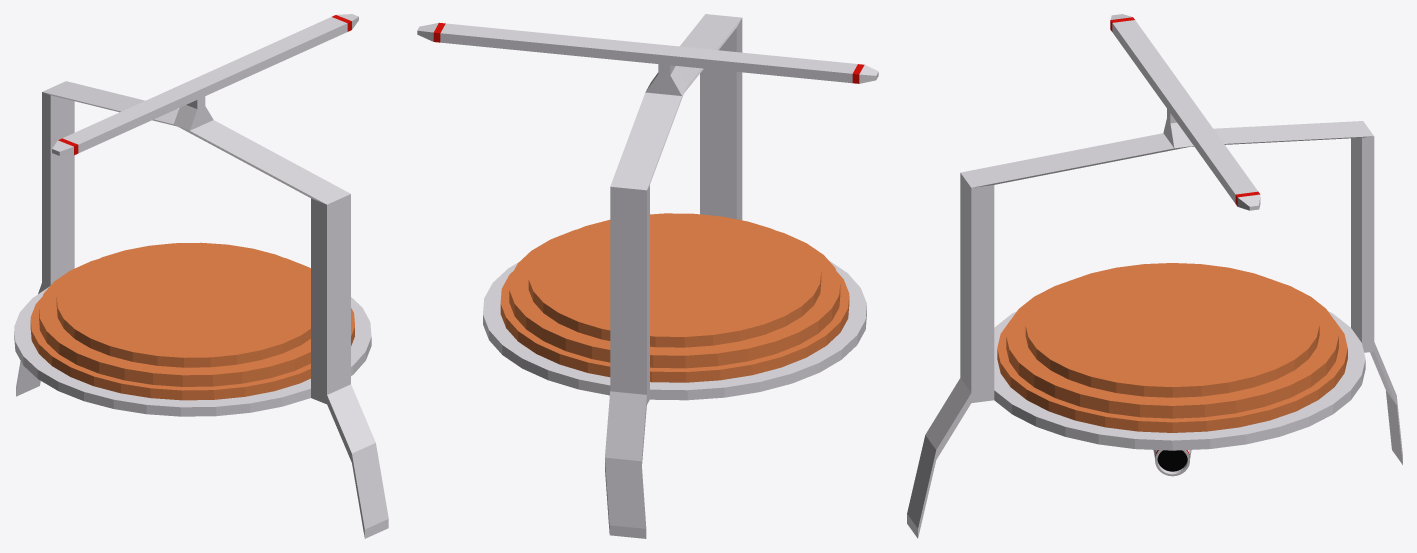
File: 1CreeperDrone.fbx
3 renders of one model, left to right at view 1: azimuth 30°, elevation 25°; view 2: azimuth 150°, elevation 25°; view 3: azimuth 270°, elevation 25°, orthographic. The views are drawn at different scales.
Parts seen in each view (by area): view 1: Pancake Drone, Pancake Drone Propeller; view 2: Pancake Drone, Pancake Drone Propeller; view 3: Pancake Drone, Pancake Drone Propeller.
Part boxes in pixels (<box>): Pancake Drone: <box>14,81,388,538</box>; Pancake Drone Propeller: <box>52,14,358,155</box>; Pancake Drone: <box>483,14,866,538</box>; Pancake Drone Propeller: <box>417,22,878,83</box>; Pancake Drone: <box>907,105,1402,538</box>; Pancake Drone Propeller: <box>1110,14,1260,210</box>.
Size of the model in its own units: 405 by 392 by 441.
